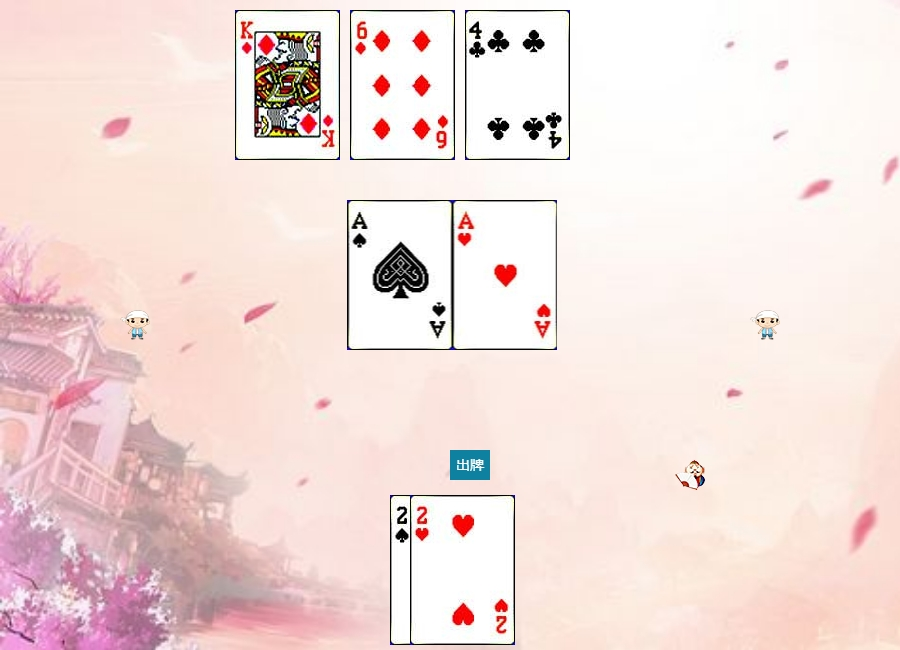13~1: (235, 10, 340, 160)
14~3: (453, 200, 558, 350)
14~4: (348, 200, 453, 350)
15~3: (410, 495, 515, 645)
15~4: (390, 495, 495, 645)
4~2: (465, 10, 570, 160)
6~1: (350, 10, 455, 160)
